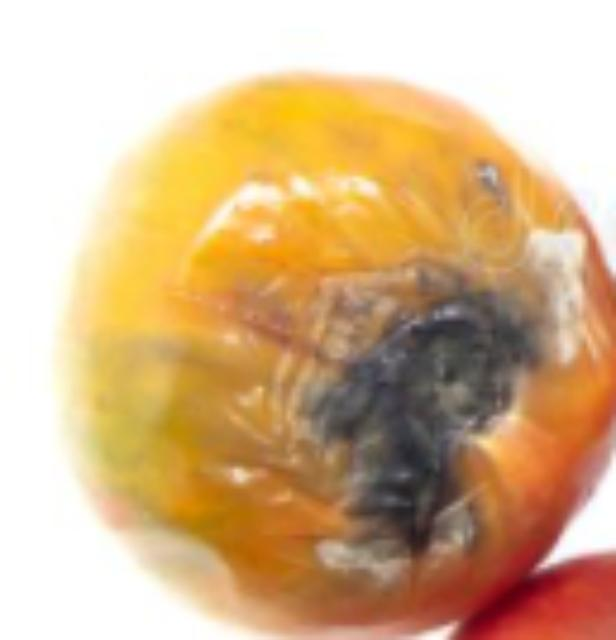defect: (57, 71, 616, 630)
